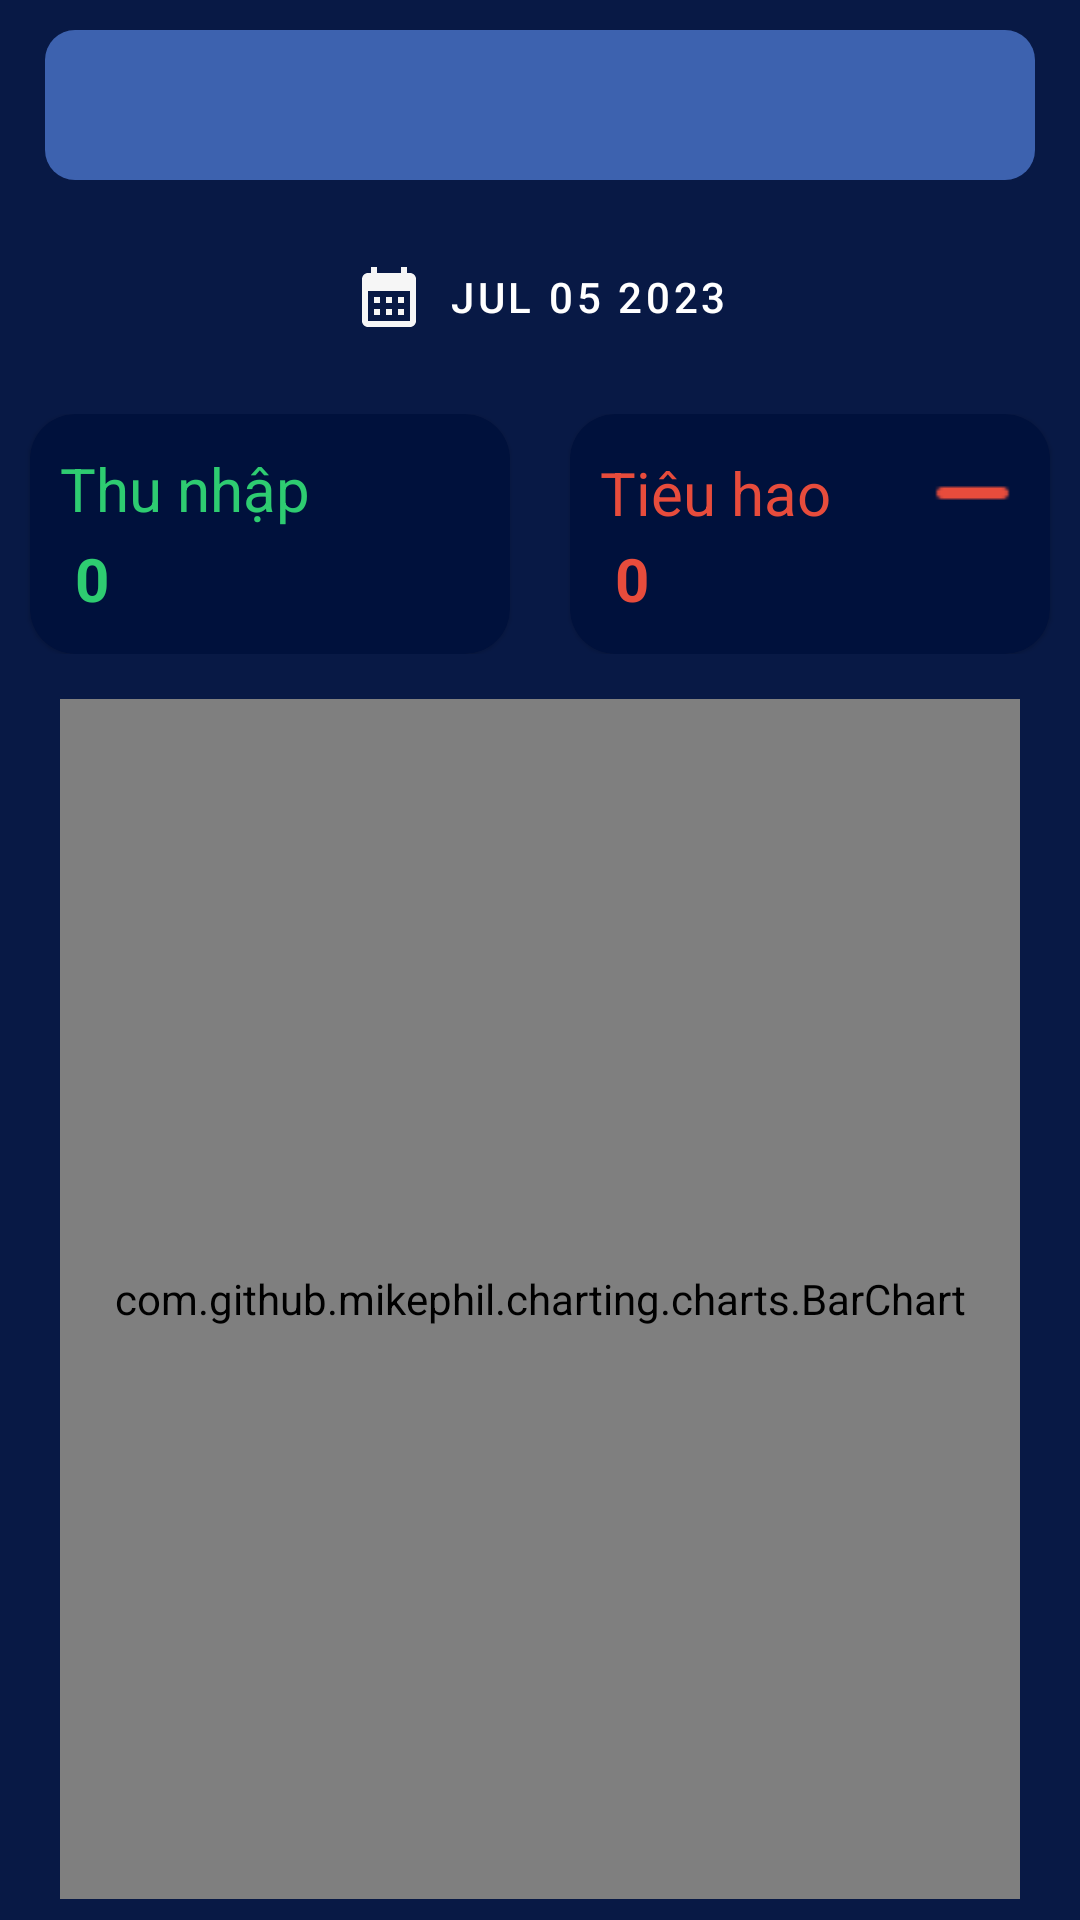

Screen size 1080 x 1920. Icon name, then its box in pixels as (x1, y1, x2, y2):
minus: (935, 486, 1010, 500)
